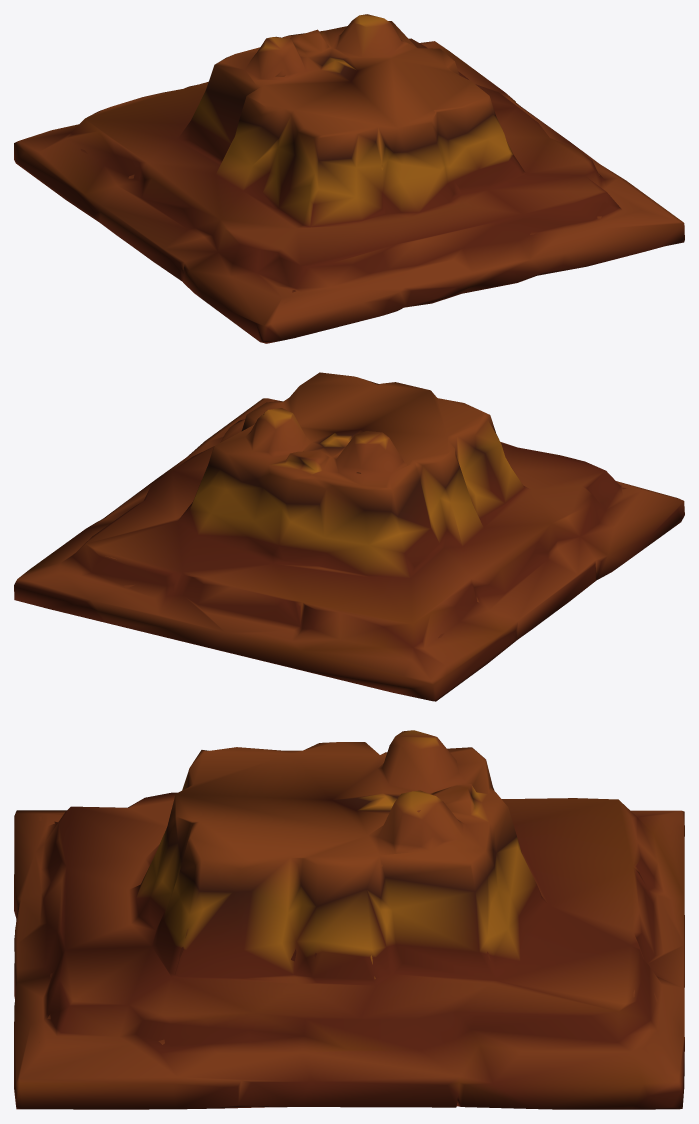
File: gen3d-mesa-lod1.glb
3 renders of one model, top to bottom at view 1: azimuth 30°, elevation 25°; view 2: azimuth 150°, elevation 25°; view 3: azimuth 270°, elevation 25°, orthographic. The views are drawn at different scales.
Visible parts, largest first — view 1: part_0; view 2: part_0; view 3: part_0.
Part boxes in pixels (left/top/right/bottom): part_0: left=14, top=14, right=684, bottom=343; part_0: left=14, top=372, right=684, bottom=701; part_0: left=14, top=730, right=684, bottom=1109.
Bounding box in the file's own units: 2.88 × 0.9972 × 2.97.
